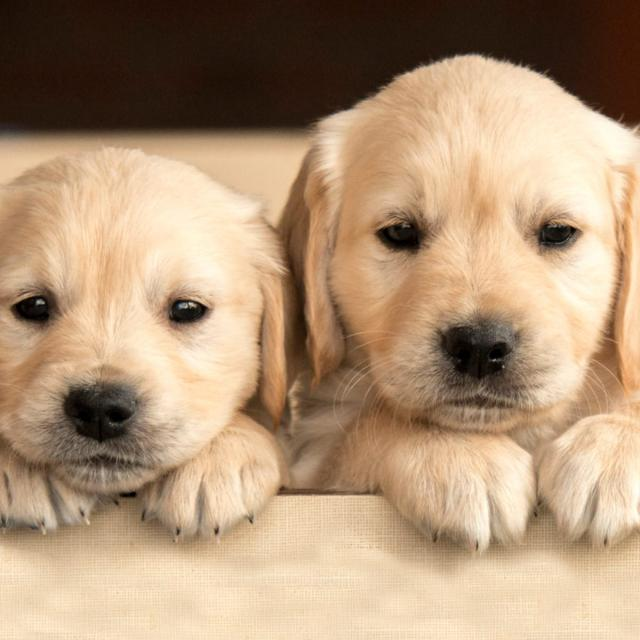dogs: (272, 55, 639, 561), (0, 136, 294, 545)
